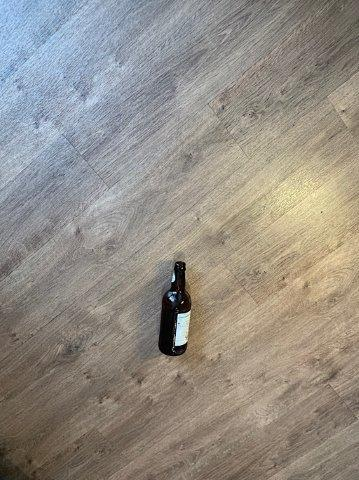botolkaca: (159, 263, 191, 355)
